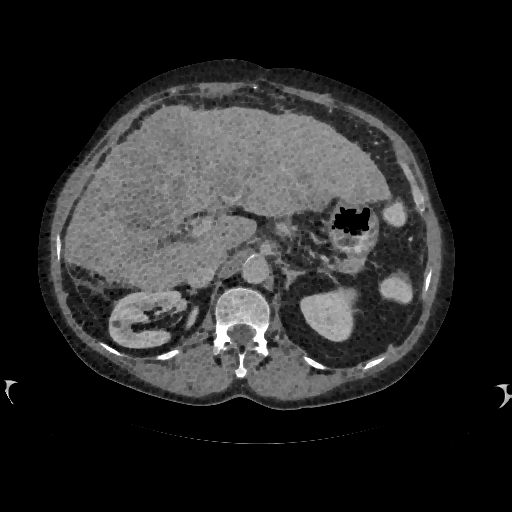Lesion: (110, 317, 124, 329)
